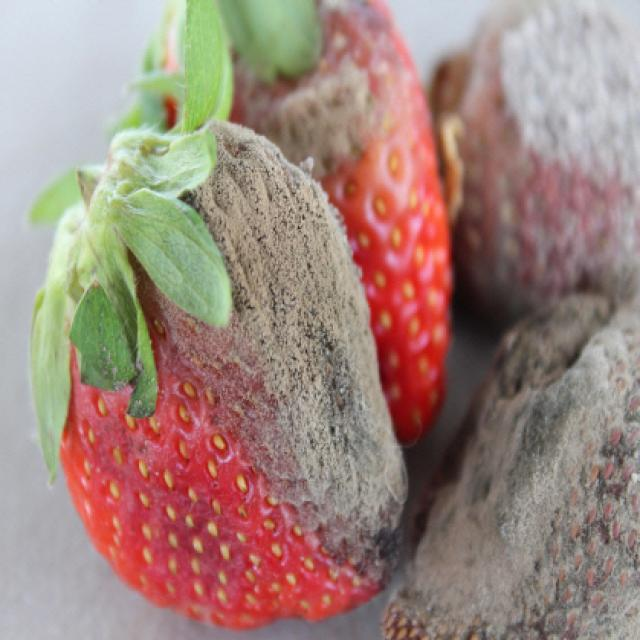Gray Mold: (68, 122, 410, 610), (376, 289, 640, 638), (424, 0, 640, 318), (226, 0, 417, 185)
